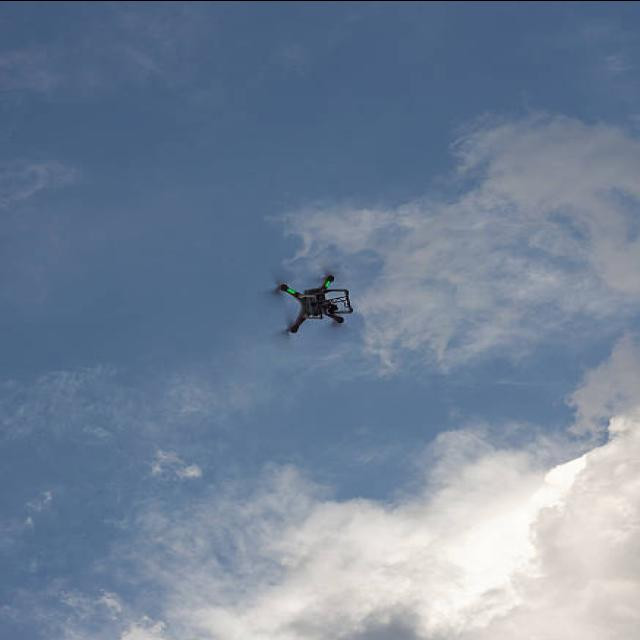drone: (274, 274, 353, 336)
